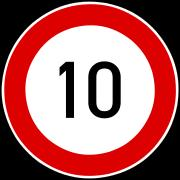Speed Limit -10-: (33, 24, 150, 149)
